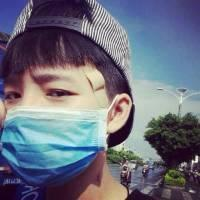mask: (3, 95, 106, 183)
